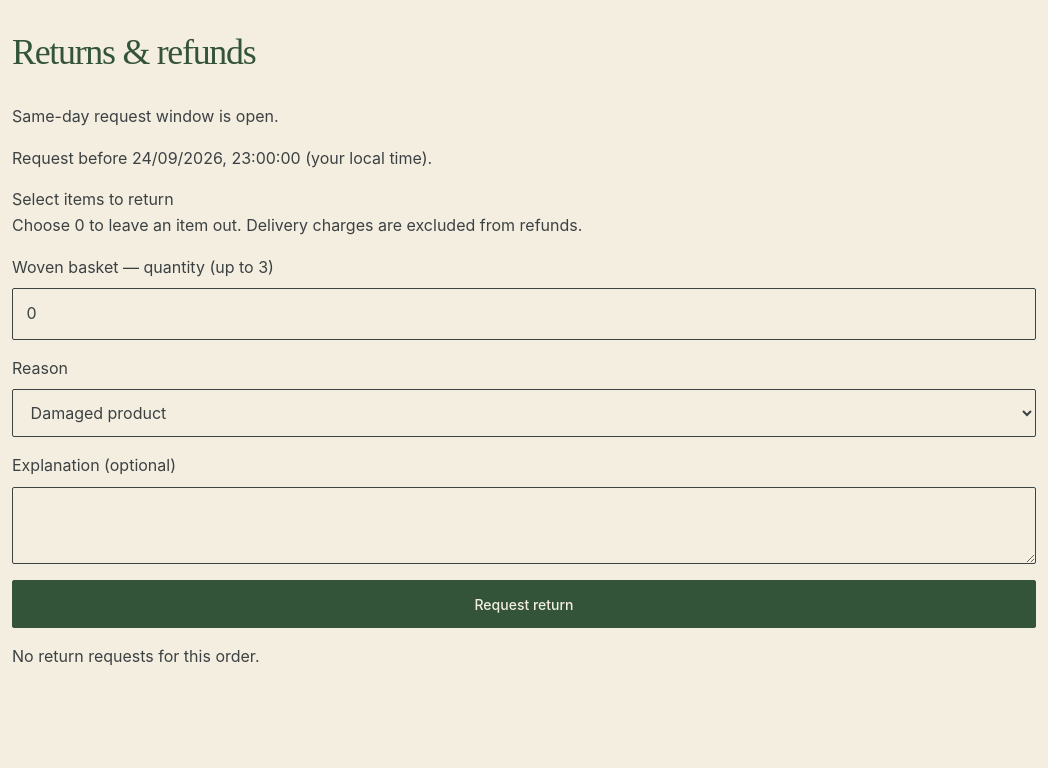
returns › loads guest-scoped eligibility and submits selected partial quantities without money
Replace the text in the number field with "2" at (524,314), box 12,288 -> 1036,340
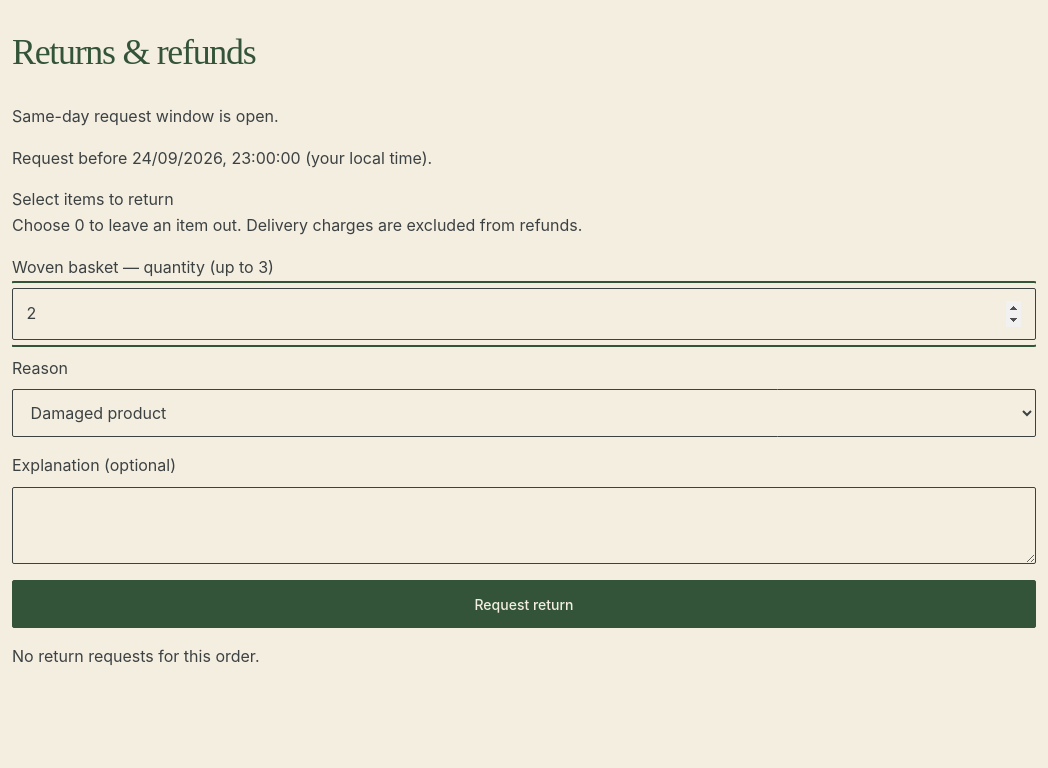
Select "Defective product" in the dropdown labelled "Reason" at (524,413), box 12,389 -> 1036,437
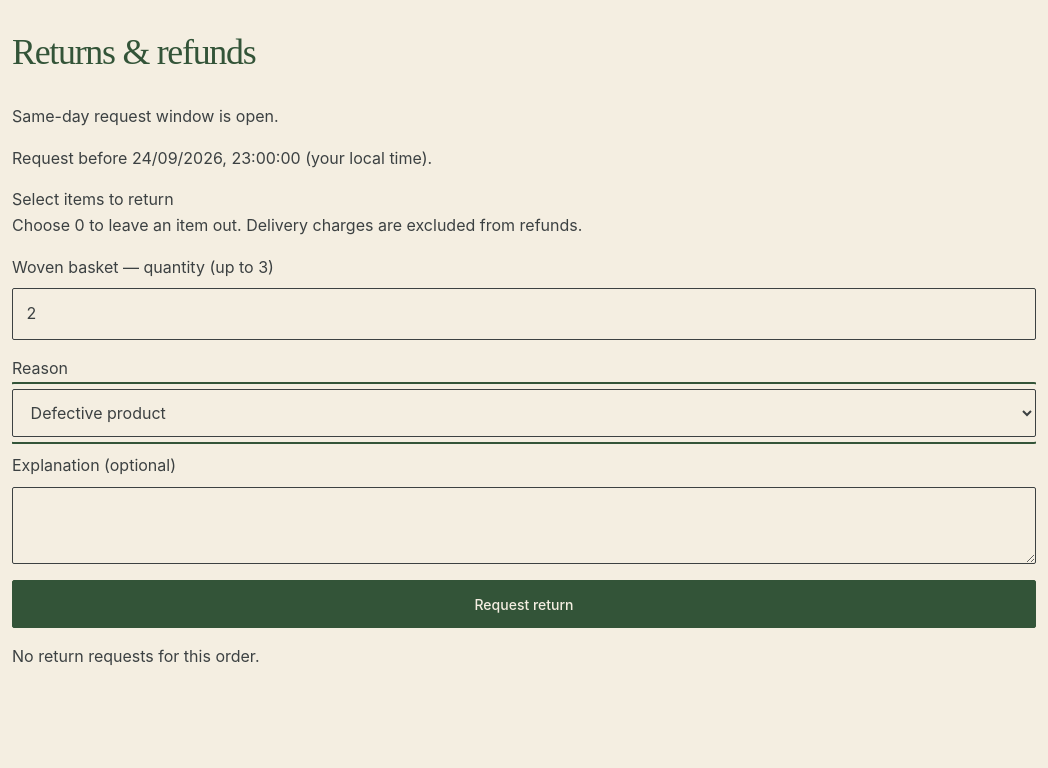
Click the button "Request return" at (524,604), box 12,580 -> 1036,628
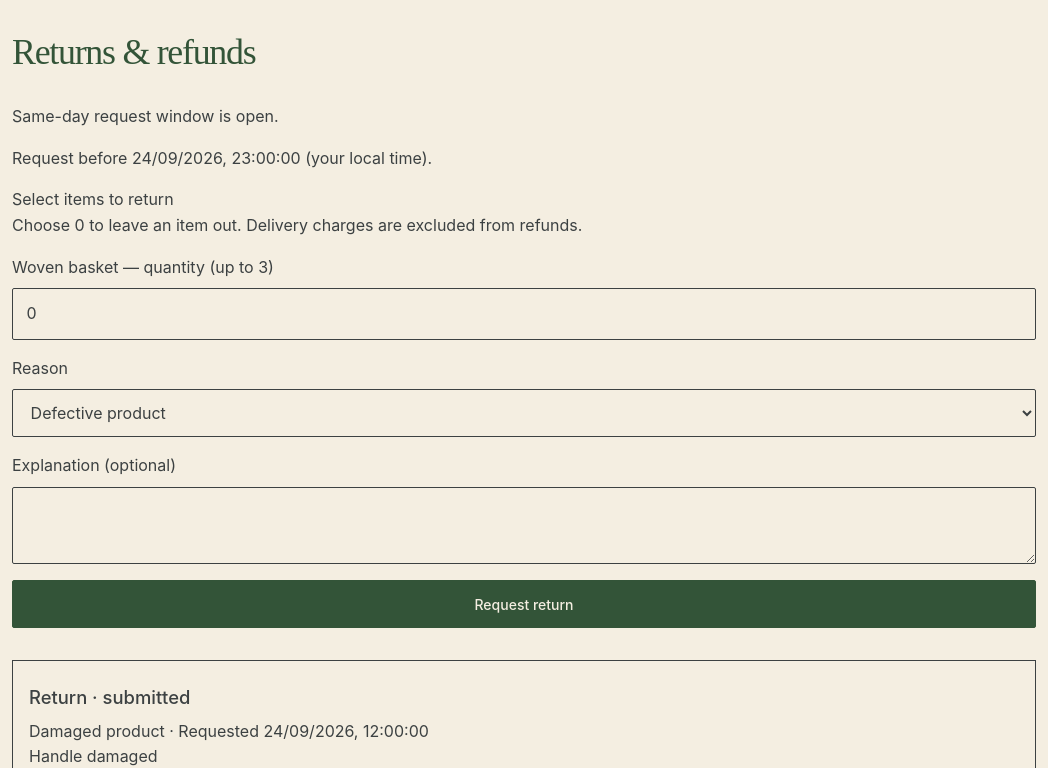
Now the heading "Return · submitted" is shown, box 29,686 -> 190,708
